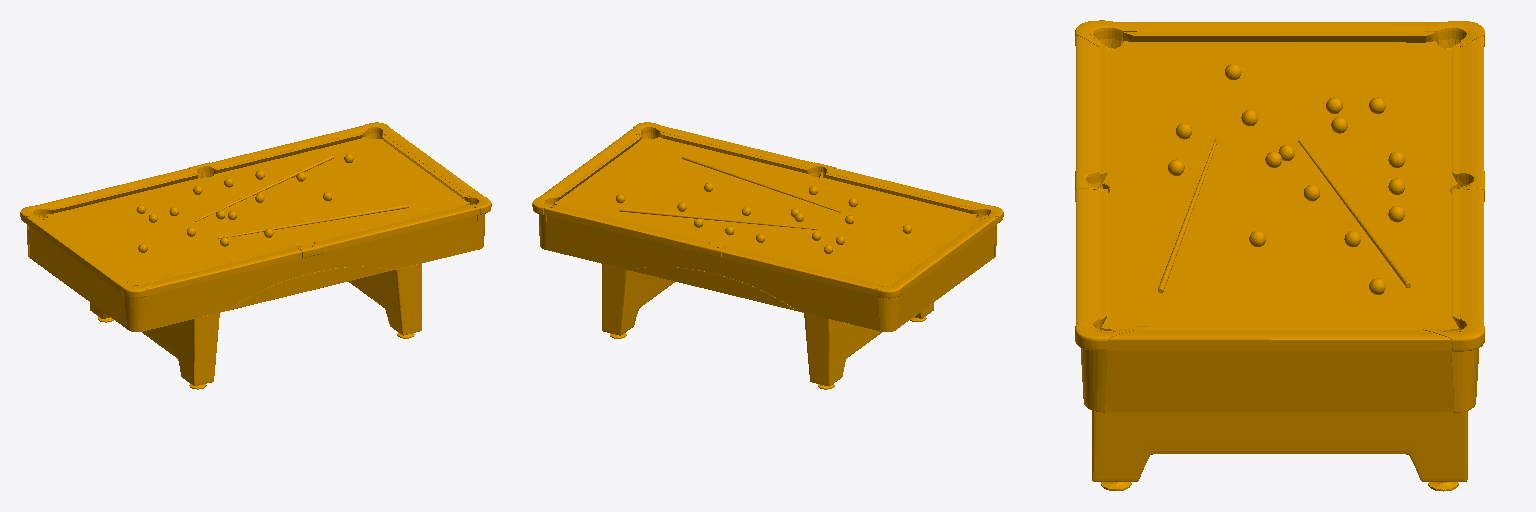
The robot description file, URDF, robot "none":
<robot name="none">
       <link name="none">
           <visual>
               <origin rpy="1.57 0 0" xyz="0 0 0" />
               <geometry>
                   <mesh filename="poolTable.obj" />
               </geometry>
           </visual>
          <collision>
              <geometry>
                  <box size="1.000000 0.321753 0.544062" />
              </geometry>
          </collision>

          <inertial>
            <mass value="0.0" />
            <inertia ixx="0.0" ixy="0.0" ixz="0.0" iyy="0.0" iyz="0.0" izz="0.0" />
          </inertial>
      </link>
  </robot>

--- What the picture shows (computed from the rendered views, not written in the file) ---
The picture shows the robot from 3 angles, left to right: view 1: azimuth 30°, elevation 25°; view 2: azimuth 150°, elevation 25°; view 3: azimuth 270°, elevation 25°; orthographic projection.
Model none with 1 links and 0 joints (none), rooted at none, posed all joints at 0.
Links seen in each view (by area): view 1: none; view 2: none; view 3: none.
Link boxes in pixels (bbox=[...]): none: bbox=[20, 122, 491, 389]; none: bbox=[532, 122, 1003, 389]; none: bbox=[1075, 20, 1484, 491].
Size in the robot's own frame: 1 by 0.5441 by 0.322 metres.
Meshes: 1 distinct files referenced, 1 mesh visuals loaded (1 OBJ).